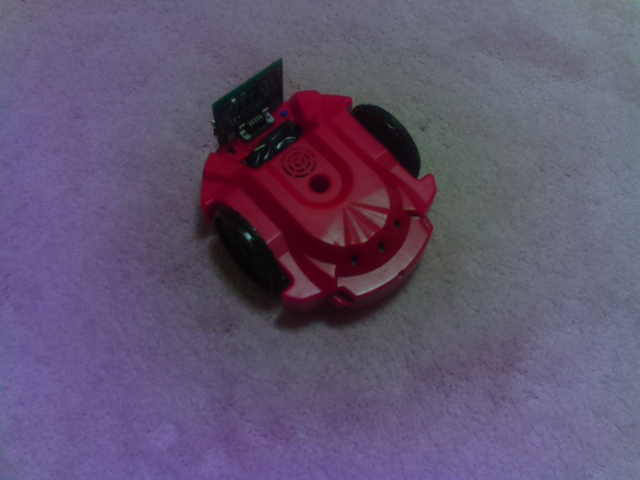chassis: (193, 56, 440, 324)
